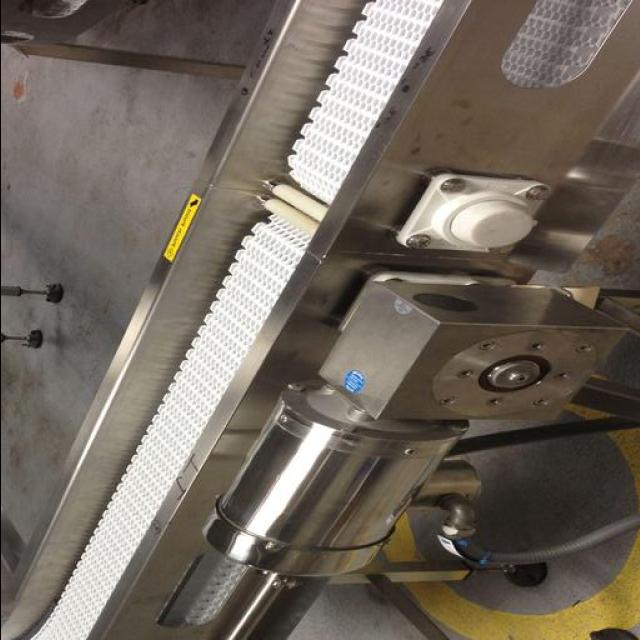conveyor: (29, 0, 443, 639)
